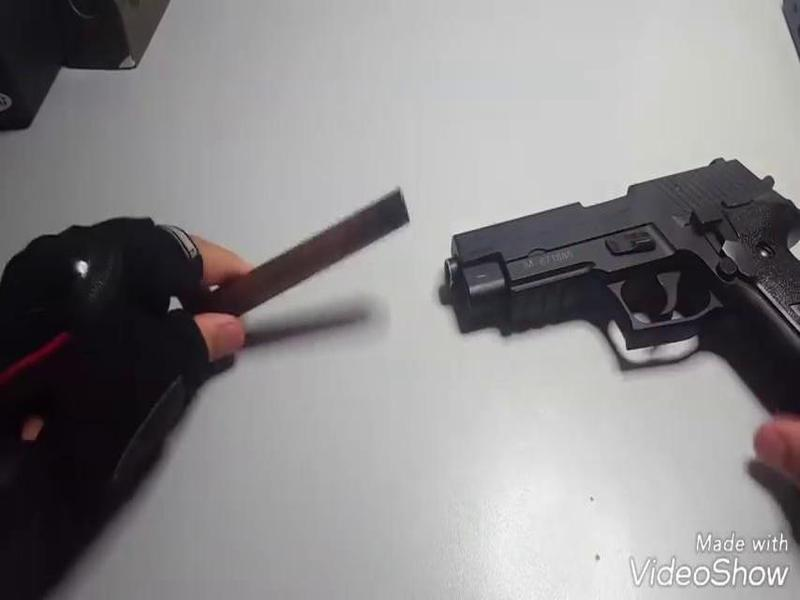Pistola: (433, 144, 800, 421)
